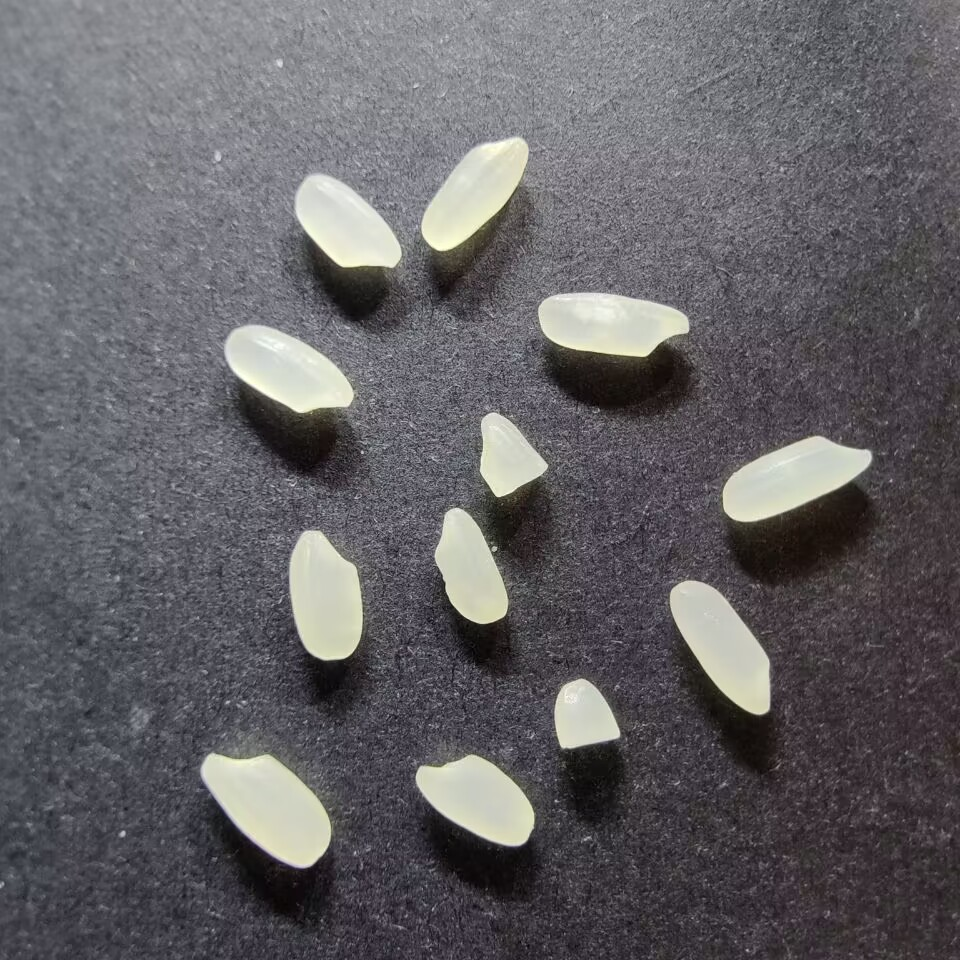broken: (477, 411, 550, 499), (554, 677, 622, 750)
rice: (200, 749, 333, 870), (668, 578, 772, 718), (720, 433, 875, 524), (419, 133, 530, 253), (223, 324, 355, 415), (414, 752, 536, 849), (293, 171, 402, 271), (287, 527, 365, 663), (537, 291, 691, 359), (431, 507, 509, 624)
